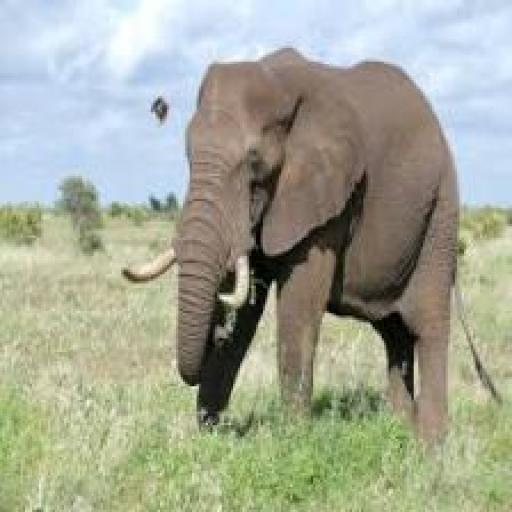Elephant: (164, 44, 463, 444)
